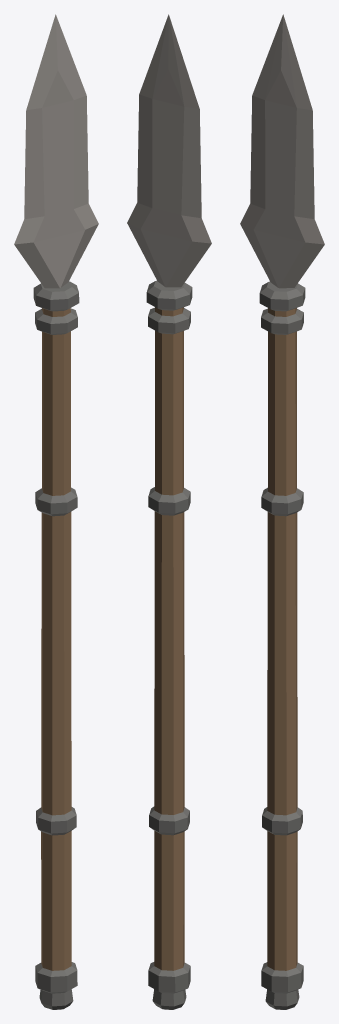
Rendered from SM_pwe_egypt_spear_02.fbx.
3 views of the same model, side by side, from view 1: azimuth 30°, elevation 25°; view 2: azimuth 150°, elevation 25°; view 3: azimuth 330°, elevation 25° (orthographic).
Visible parts, largest first — view 1: SM_pwe_egypt_spear_02; view 2: SM_pwe_egypt_spear_02; view 3: SM_pwe_egypt_spear_02.
Boxes of the visible parts, bbox=[...] form: SM_pwe_egypt_spear_02: bbox=[14, 14, 98, 1009]; SM_pwe_egypt_spear_02: bbox=[127, 14, 211, 1009]; SM_pwe_egypt_spear_02: bbox=[240, 14, 324, 1009].
Size of the model in its own units: 14.05 by 157 by 6.76.
